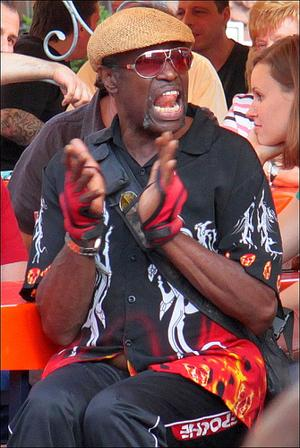person: (2, 3, 295, 448)
